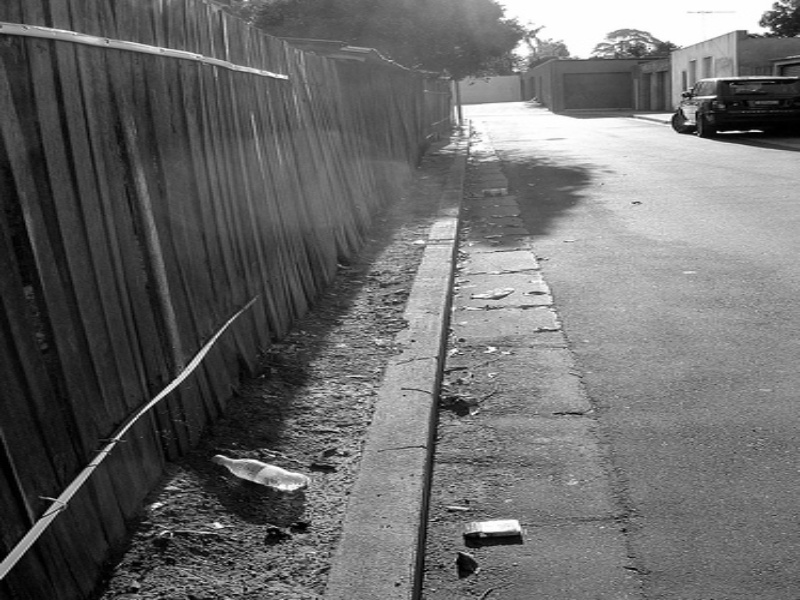car: (671, 77, 800, 140)
